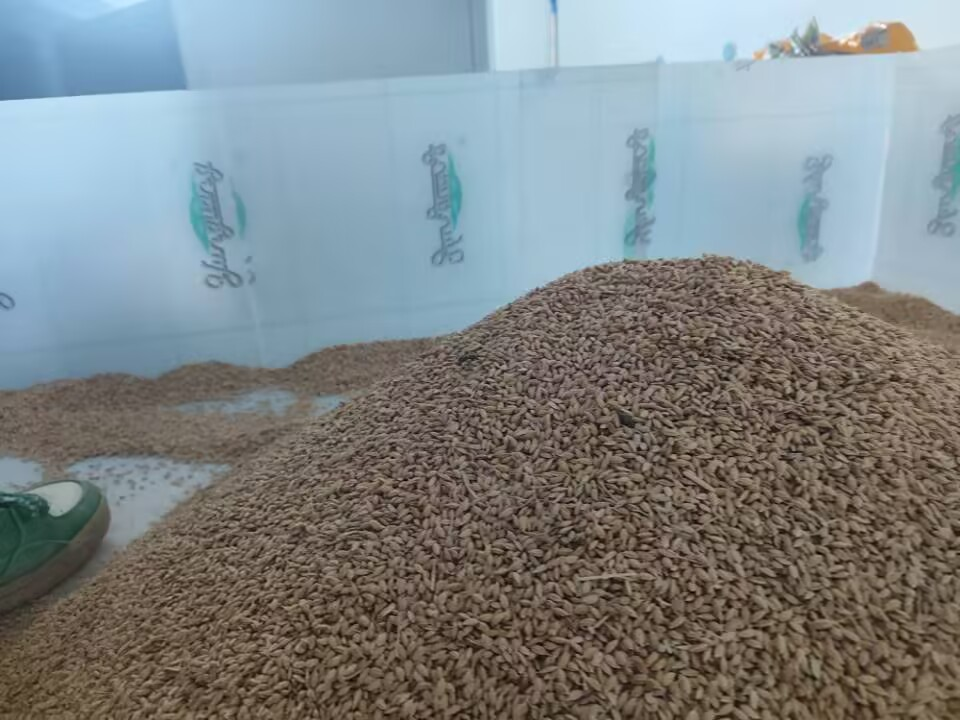Grain: (210, 247, 960, 714)
